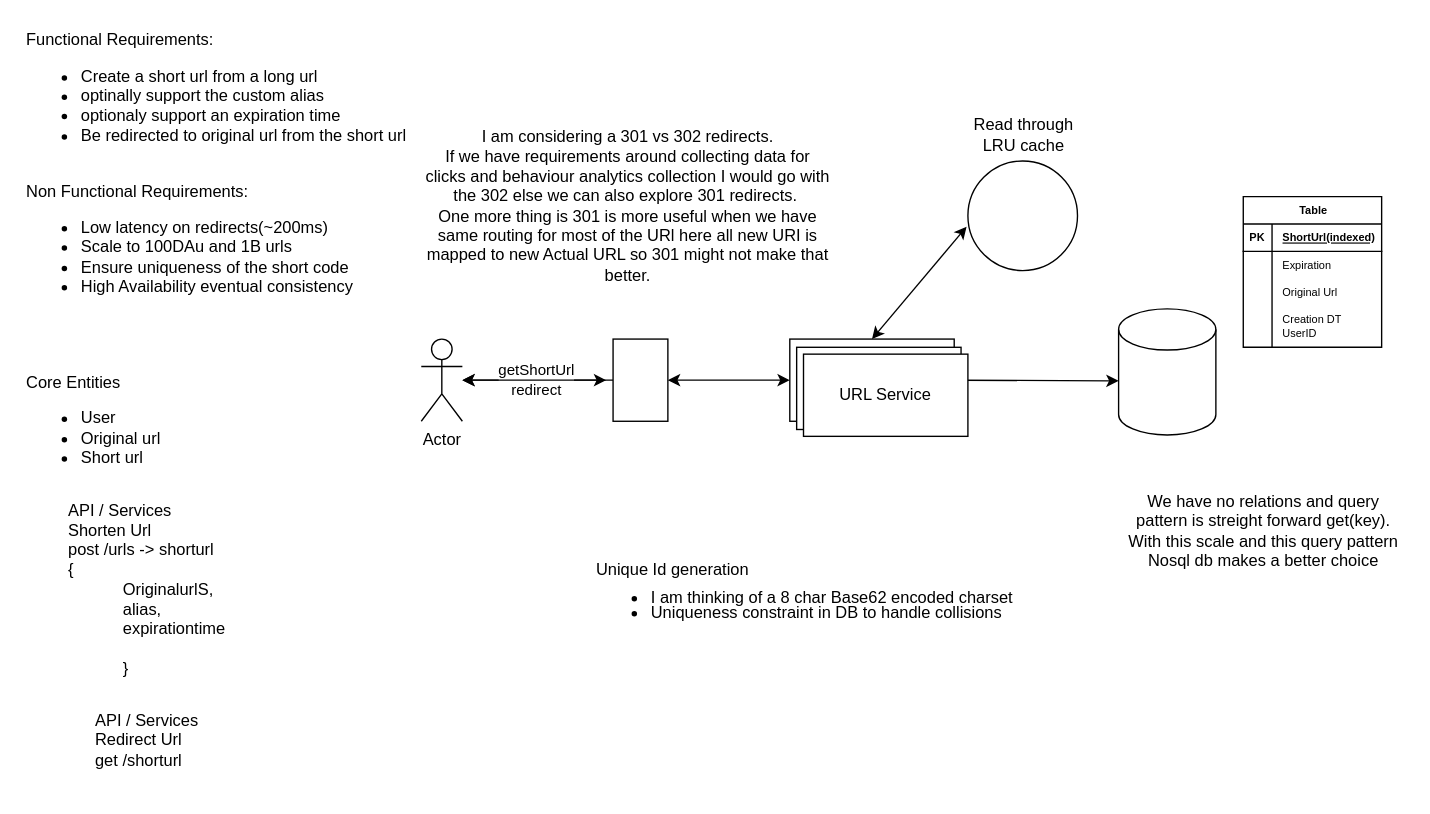
Some shapes in this 1430 by 814 pixel diagram are drawn without their labels. The shapes that lost their labels are listed below. From the top down, each one's centre as x and y in pixels, then its label:
the point at 1022,215: redis
the point at 640,379: LB
the point at 1166,371: DynamoDB
